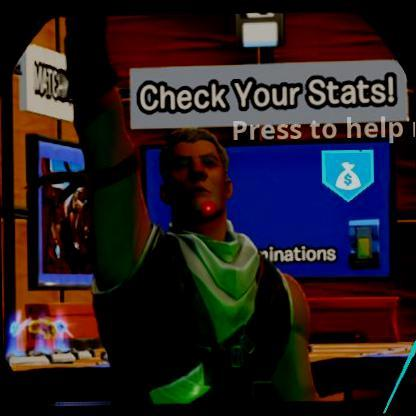person: (87, 118, 320, 412)
